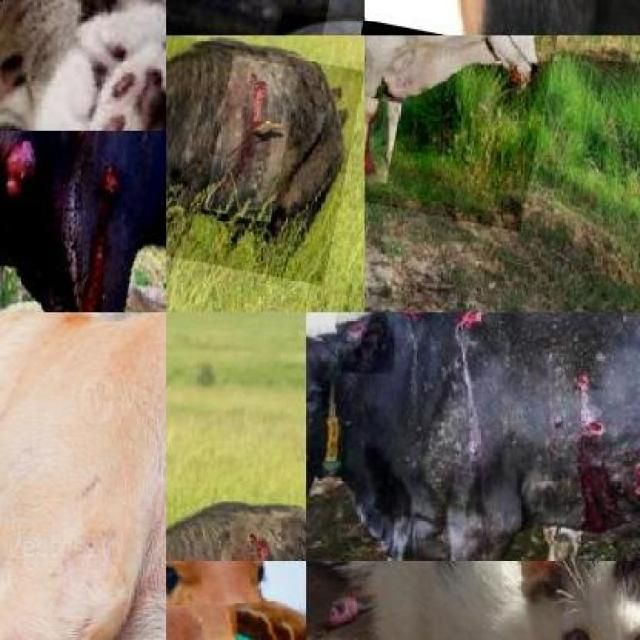buffalo: (166, 36, 363, 286), (0, 131, 166, 312), (166, 503, 306, 560)
cat: (0, 0, 166, 131)
cow: (306, 312, 640, 560), (365, 35, 572, 231), (166, 560, 306, 640)
dog: (0, 312, 166, 640)
injured: (14, 131, 140, 312), (203, 55, 299, 222), (0, 131, 65, 249), (331, 312, 395, 374), (225, 515, 306, 560), (365, 95, 400, 183), (574, 421, 634, 465), (464, 312, 504, 352), (581, 362, 610, 398), (398, 312, 440, 334)
